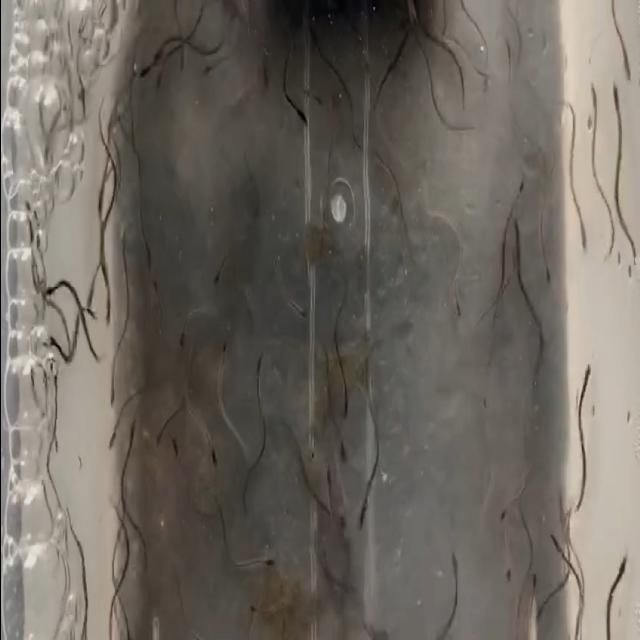active_glass_eel: (354, 490, 374, 536), (150, 49, 170, 94), (609, 549, 630, 591), (510, 168, 528, 216), (250, 344, 265, 400), (154, 408, 172, 453), (500, 546, 518, 590), (532, 592, 556, 624), (523, 571, 541, 613), (216, 331, 231, 381), (46, 352, 62, 396), (552, 524, 570, 562), (108, 366, 121, 416), (167, 432, 185, 468), (203, 438, 220, 476), (176, 309, 190, 352), (509, 215, 523, 257), (102, 297, 116, 339), (580, 354, 592, 402), (498, 494, 514, 530), (576, 215, 590, 255), (210, 257, 224, 297), (106, 414, 120, 454), (22, 193, 38, 227), (39, 327, 59, 353), (292, 292, 308, 324), (589, 75, 602, 114), (540, 248, 554, 284), (248, 597, 268, 622), (448, 542, 459, 586), (202, 56, 222, 80), (622, 49, 634, 88), (292, 108, 310, 134), (136, 56, 152, 84), (128, 408, 139, 448), (608, 80, 620, 116), (44, 280, 62, 304), (337, 436, 351, 466), (340, 389, 350, 424), (452, 287, 461, 324), (258, 554, 276, 572), (323, 463, 333, 495)
